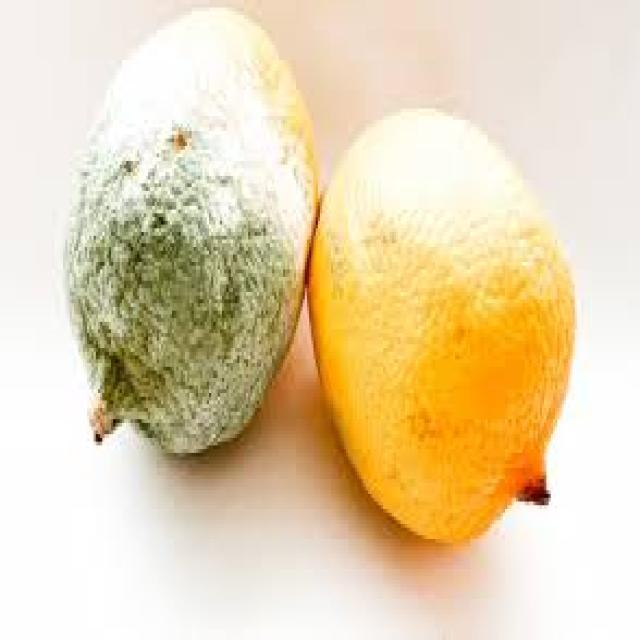Rotten: (60, 7, 323, 462)
